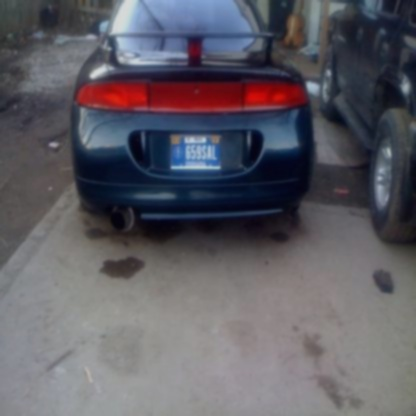Vehicle: (74, 2, 312, 246)
